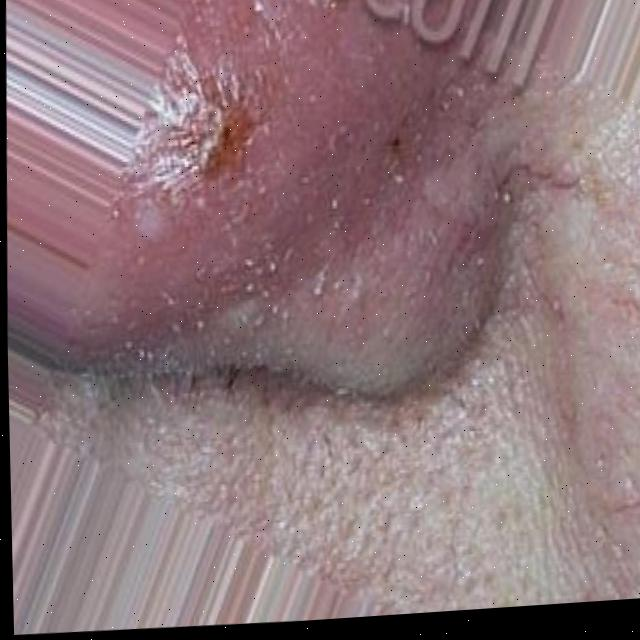Rosacea: (173, 57, 257, 190)
